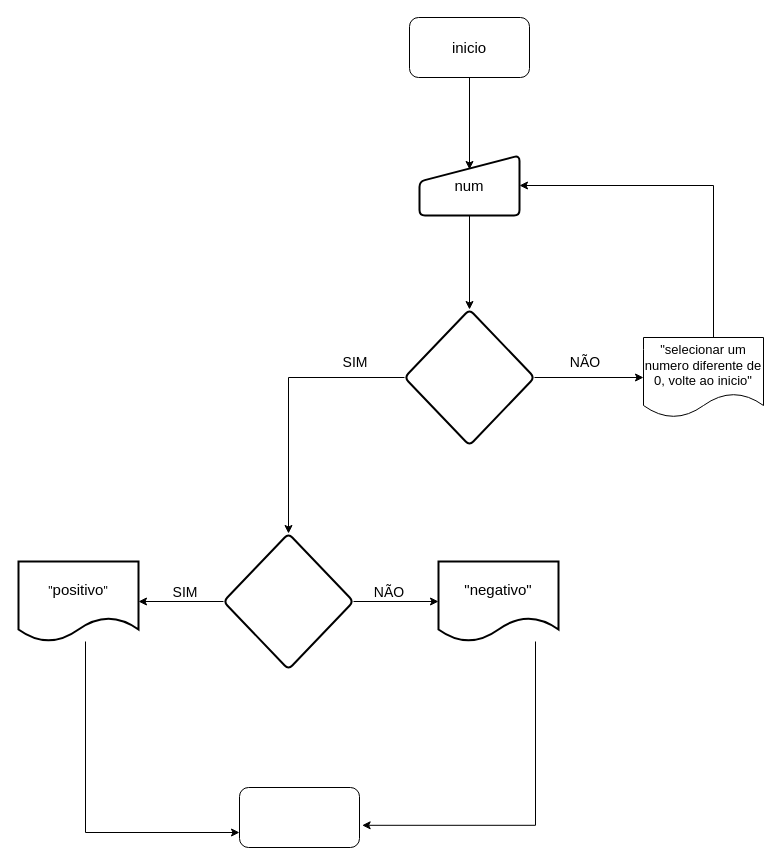
This 781x865 diagram has some shape labels left out. Each missing label, with the box of its shape:
FIM: (238, 786, 360, 848)
num != 0: (403, 308, 535, 446)
num >0: (222, 532, 354, 670)
